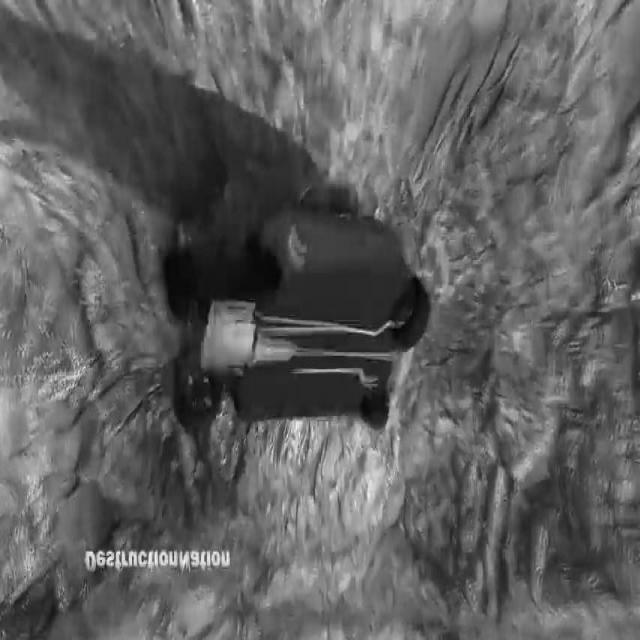severe: (165, 180, 429, 444)
